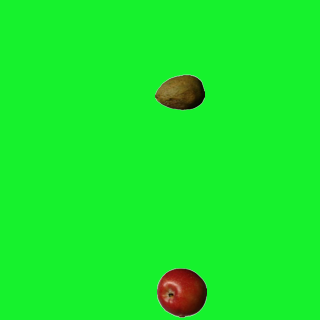Apple Braeburn: (156, 267, 206, 317)
Papaya: (154, 67, 204, 117)
